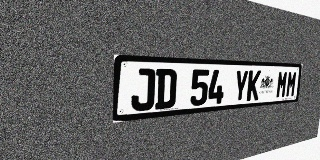4: (207, 70, 225, 105)
5: (190, 69, 209, 106)
D: (155, 69, 177, 110)
J: (131, 68, 156, 112)
K: (246, 70, 261, 101)
M: (276, 71, 288, 98), (285, 71, 297, 97)
Y: (233, 70, 249, 102)
